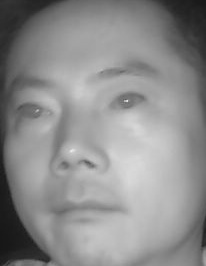eye: (12, 100, 53, 125), (108, 89, 147, 111)
mouth: (52, 190, 123, 226)
